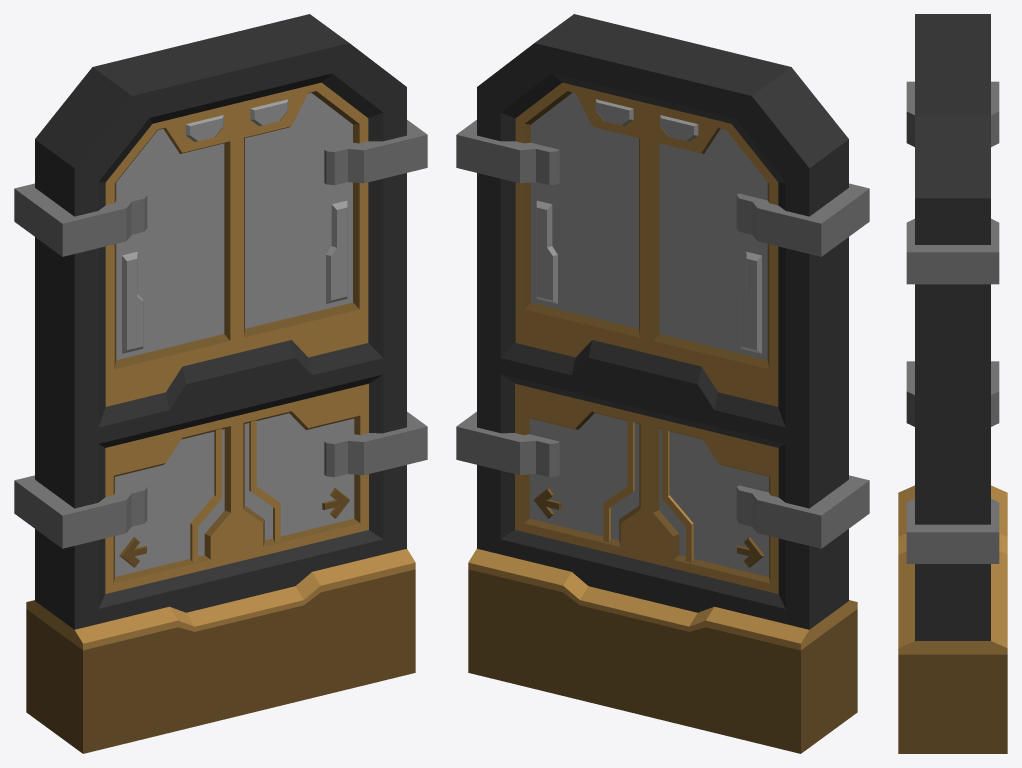
The model's file is Door_Single.glb.
The picture shows the model from 3 angles, left to right: view 1: azimuth 30°, elevation 25°; view 2: azimuth 150°, elevation 25°; view 3: azimuth 270°, elevation 25°; orthographic projection. The views are drawn at different scales.
Parts seen in each view (by area): view 1: Black; view 2: Black; view 3: Black.
Boxes of the visible parts, box(x1,y1,x2,y2) form: Black: box(14, 14, 427, 753); Black: box(456, 14, 869, 753); Black: box(898, 14, 1007, 753).
Size of the model in its own units: 1.67 by 2.79 by 0.4515.
1 material, 1 textured.
